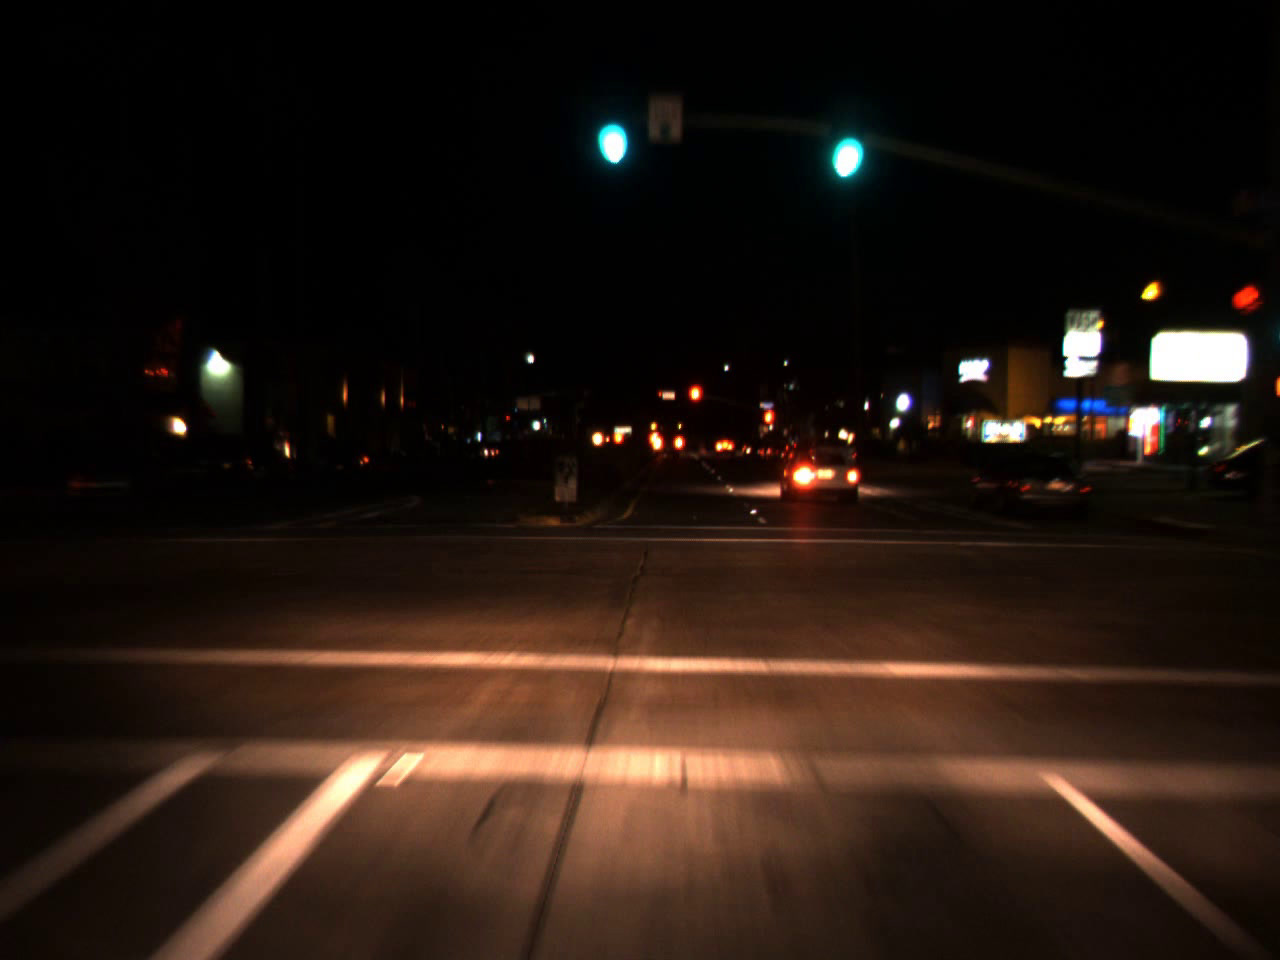go: (586, 89, 634, 173), (820, 102, 866, 189)
stop: (687, 383, 703, 418), (761, 407, 776, 442)
